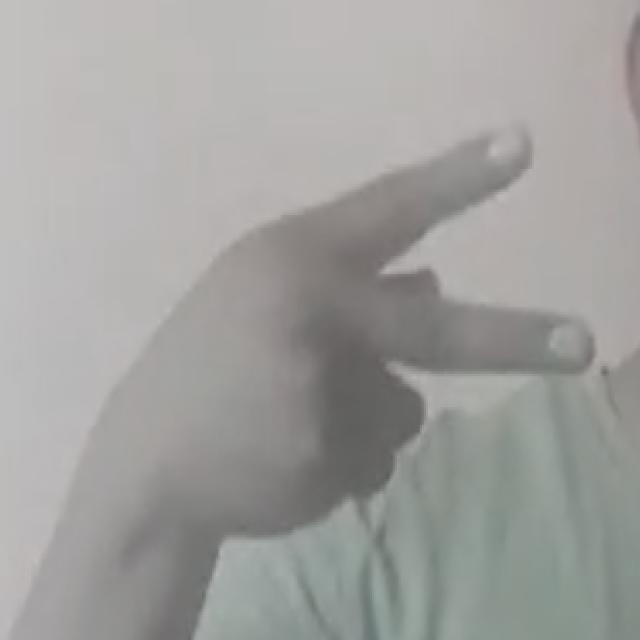K: (79, 111, 606, 552)
